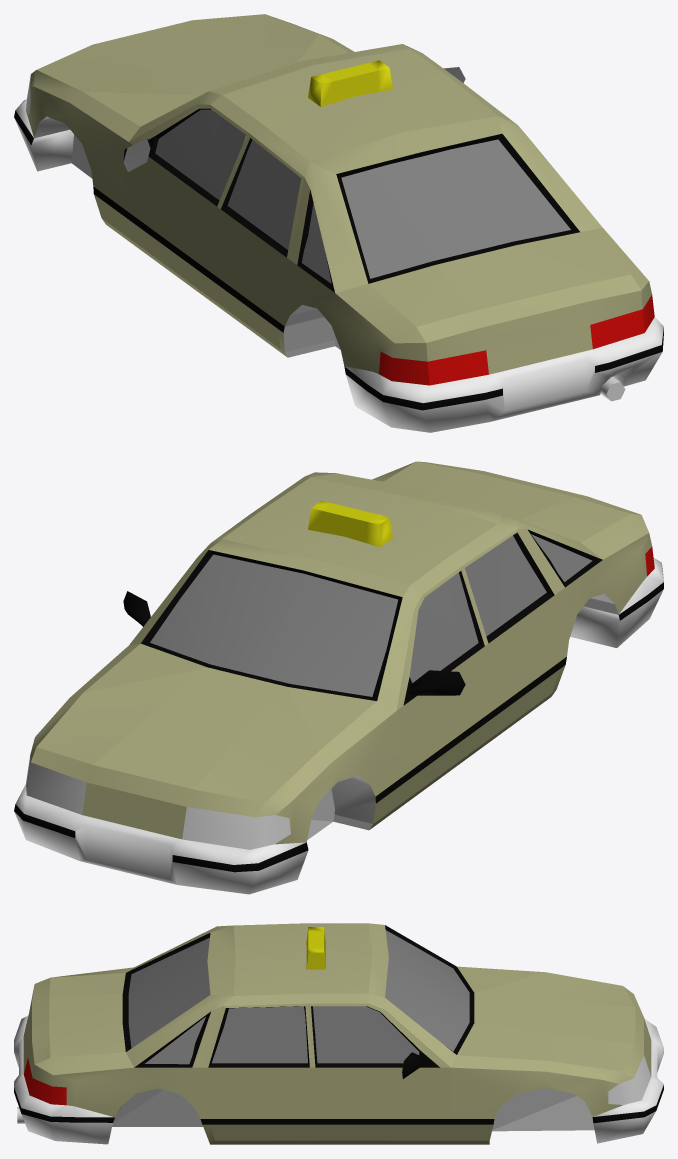
Rendered from taxi.fbx.
3 views of the same model, one above another, from view 1: azimuth 30°, elevation 25°; view 2: azimuth 150°, elevation 25°; view 3: azimuth 270°, elevation 25° (orthographic). The views are drawn at different scales.
Parts seen in each view (by area): view 1: bonnet_hi_ok; view 2: bonnet_hi_ok; view 3: bonnet_hi_ok.
Part boxes in pixels (x1,y1,x2,y2): bonnet_hi_ok: [14, 14, 663, 432]; bonnet_hi_ok: [14, 461, 663, 894]; bonnet_hi_ok: [14, 923, 663, 1144].
Size of the model in its own units: 244 by 138 by 522.
